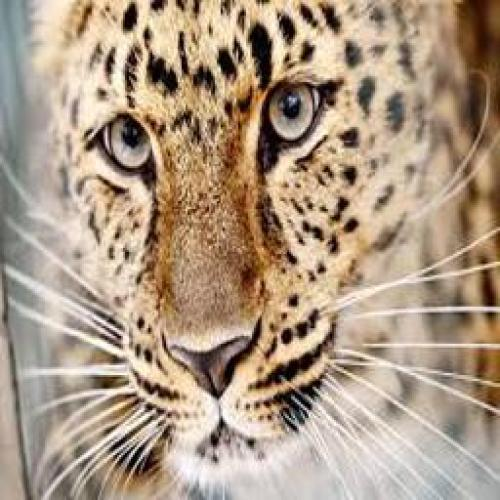amur_leopard-endangered: (41, 9, 489, 485)
